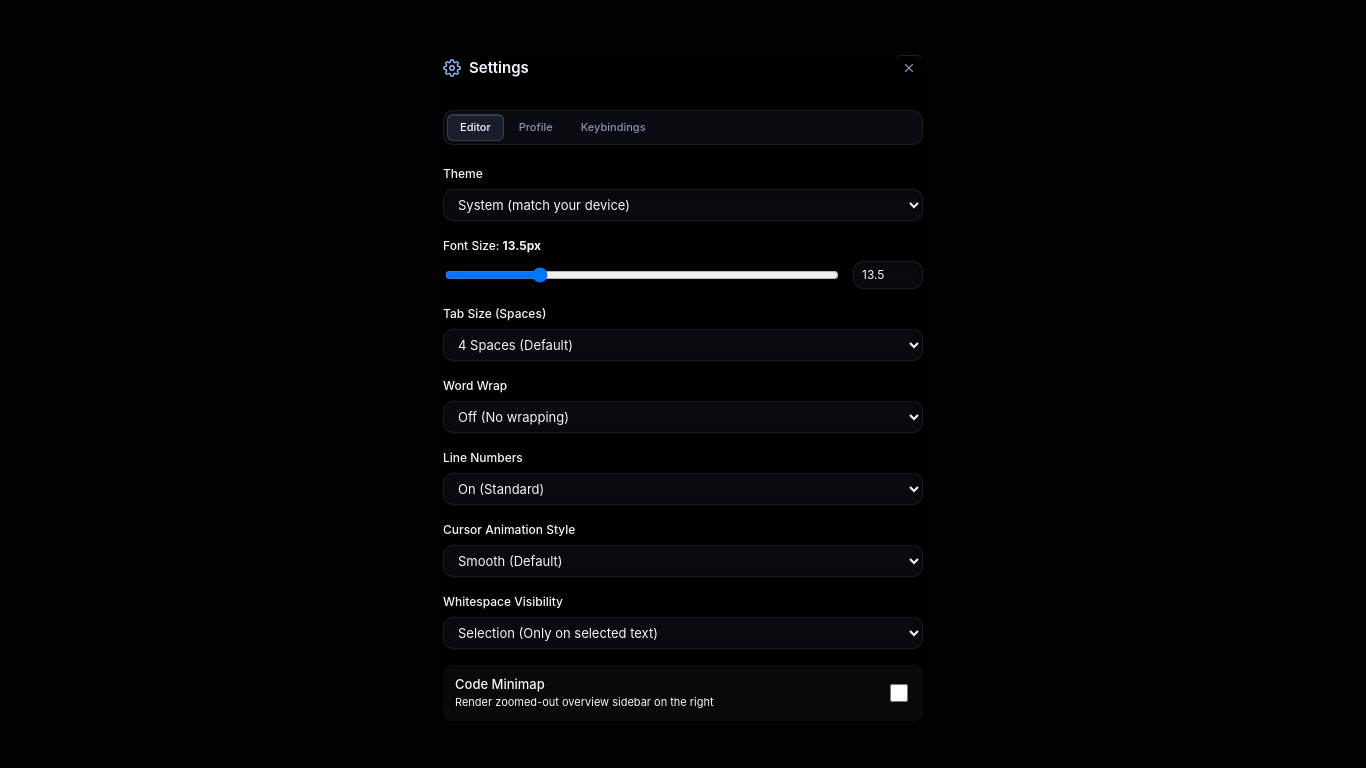
Test: SettingsModal — Keybindings tab (M70) › reflects a persisted override instead of the default
Click the tab "Keybindings": coordinates (613, 128) 568,114 -> 659,141
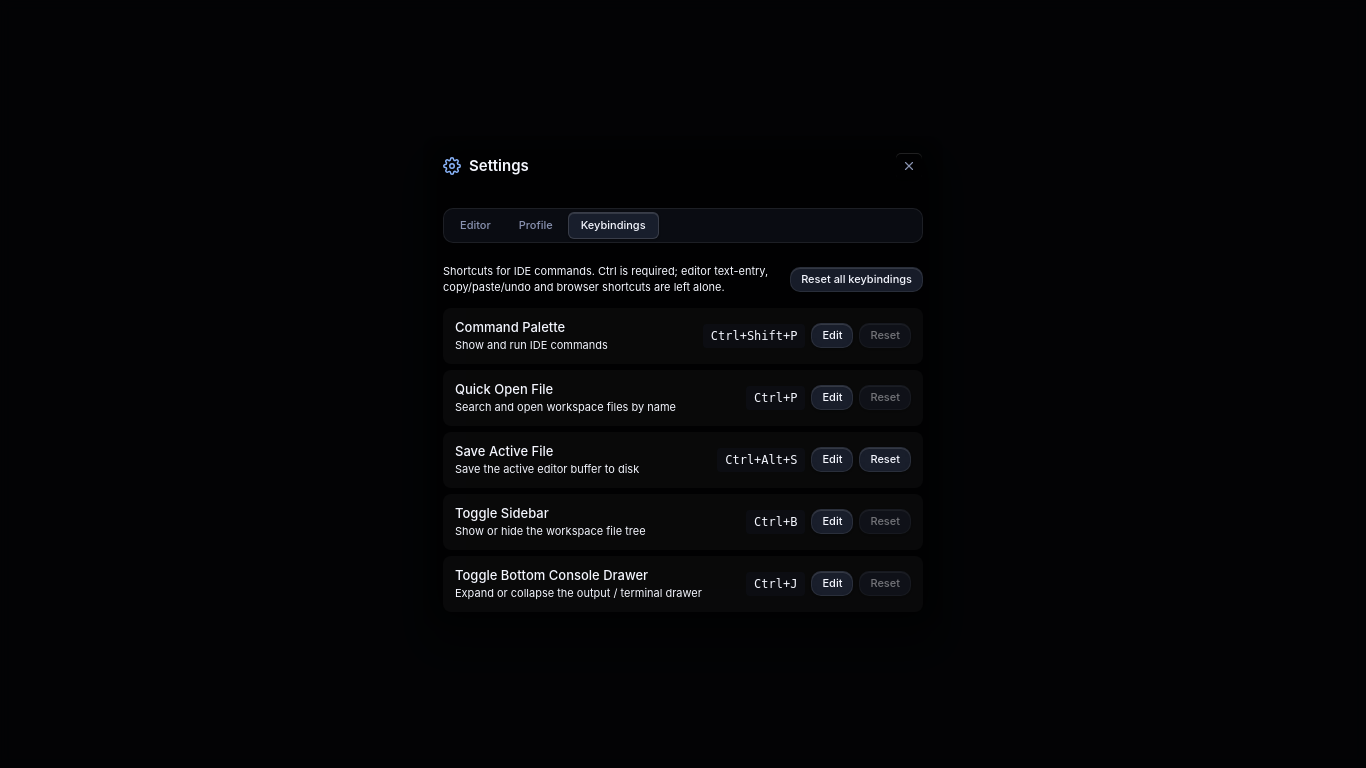
Now the list item that starts with "Save Active File" reads "Save Active File Save the active editor buffer to disk Ctrl+Alt+S Edit Reset", box 725,453 -> 798,467
